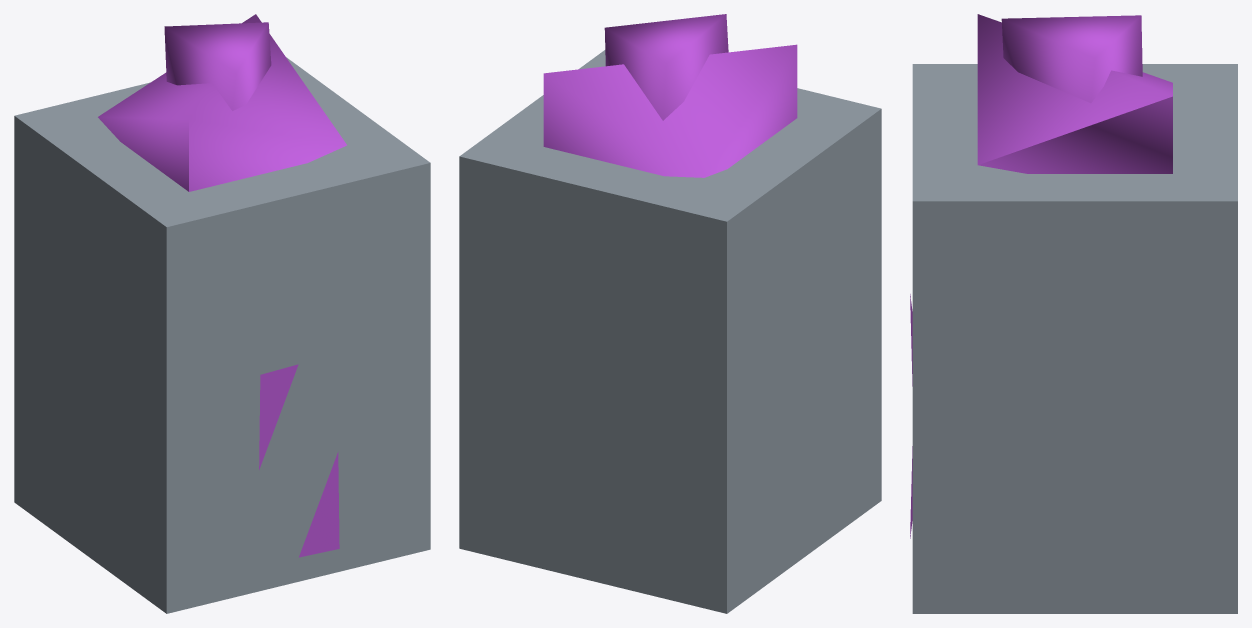
The model's file is CH_Radar_LOD2.glb.
The picture shows the model from 3 angles, left to right: view 1: azimuth 30°, elevation 25°; view 2: azimuth 150°, elevation 25°; view 3: azimuth 270°, elevation 25°; orthographic projection. The views are drawn at different scales.
Parts seen in each view (by area): view 1: EntranceGate; view 2: EntranceGate; view 3: EntranceGate.
Boxes of the visible parts, x1=… form: EntranceGate: x1=14, y1=14, x2=430, y2=613; EntranceGate: x1=459, y1=14, x2=881, y2=613; EntranceGate: x1=910, y1=14, x2=1237, y2=613.
Bounding box in the file's own units: 400 × 700 × 403.
